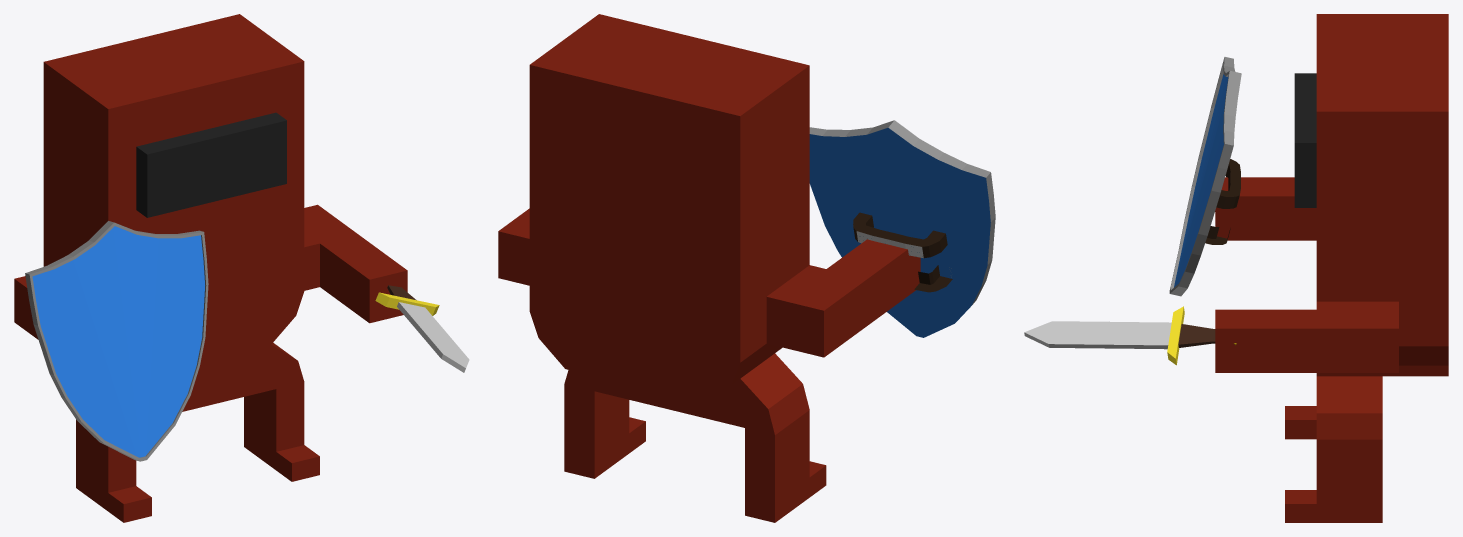
The model's file is EnemigoNormalJuego.fbx.
3 renders of one model, left to right at view 1: azimuth 30°, elevation 25°; view 2: azimuth 150°, elevation 25°; view 3: azimuth 270°, elevation 25°, orthographic. The views are drawn at different scales.
Parts seen in each view (by area): view 1: Enemigo Común.001, Escudo.001, Espada.001; view 2: Enemigo Común.001, Escudo.001; view 3: Enemigo Común.001, Escudo.001, Espada.001.
Boxes of the visible parts, <box> form: Enemigo Común.001: <box>14,14,407,522</box>; Escudo.001: <box>25,221,208,461</box>; Espada.001: <box>375,285,469,372</box>; Enemigo Común.001: <box>498,14,920,522</box>; Escudo.001: <box>809,120,995,337</box>; Enemigo Común.001: <box>1215,14,1448,522</box>; Escudo.001: <box>1169,57,1241,296</box>; Espada.001: <box>1024,306,1236,365</box>.
Size of the model in its own units: 745 by 742 by 694.
Materials: 3 (3 with a texture image).
